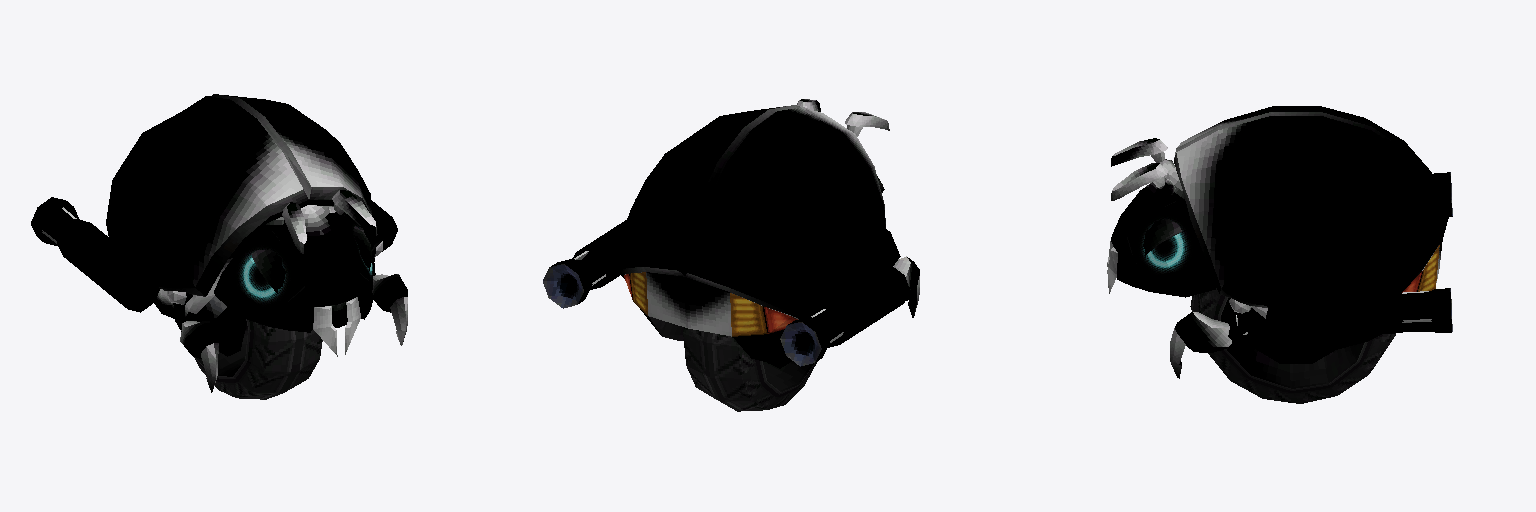
The picture shows the model from 3 angles: view 1: azimuth 30°, elevation 25°; view 2: azimuth 150°, elevation 25°; view 3: azimuth 270°, elevation 25°; orthographic projection.
Parts seen in each view (by area): view 1: polygon0, polygon1, polygon3, polygon2; view 2: polygon0, polygon3, polygon1, polygon5; view 3: polygon0, polygon1, polygon3, polygon2, polygon5.
Part boxes in pixels (left/top/right/bottom): polygon0: left=106, top=94, right=407, bottom=358; polygon1: left=31, top=197, right=407, bottom=392; polygon3: left=194, top=319, right=322, bottom=399; polygon2: left=226, top=214, right=372, bottom=314; polygon0: left=618, top=99, right=919, bottom=368; polygon3: left=543, top=264, right=821, bottom=411; polygon1: left=551, top=220, right=919, bottom=391; polygon5: left=624, top=272, right=797, bottom=336; polygon0: left=1111, top=106, right=1449, bottom=363; polygon1: left=1107, top=172, right=1452, bottom=388; polygon3: left=1190, top=172, right=1452, bottom=403; polygon2: left=1126, top=201, right=1200, bottom=276; polygon5: left=1402, top=245, right=1439, bottom=292.
Size of the model in its own units: 20.65 by 20.08 by 22.12.
Materials: 6 (4 with a texture image).